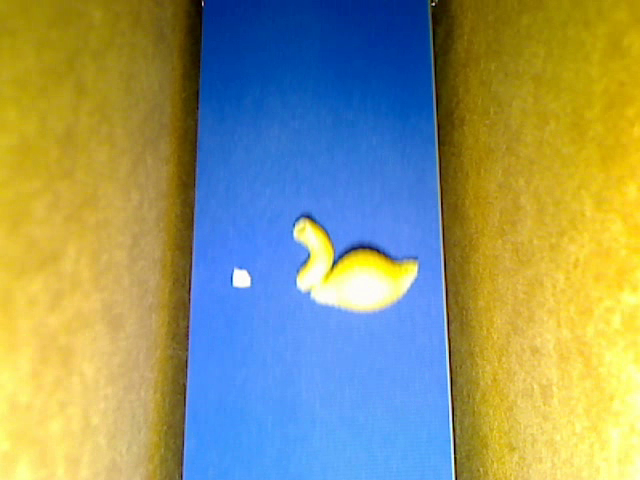elbow: (291, 216, 334, 293)
shell: (310, 248, 418, 311)
